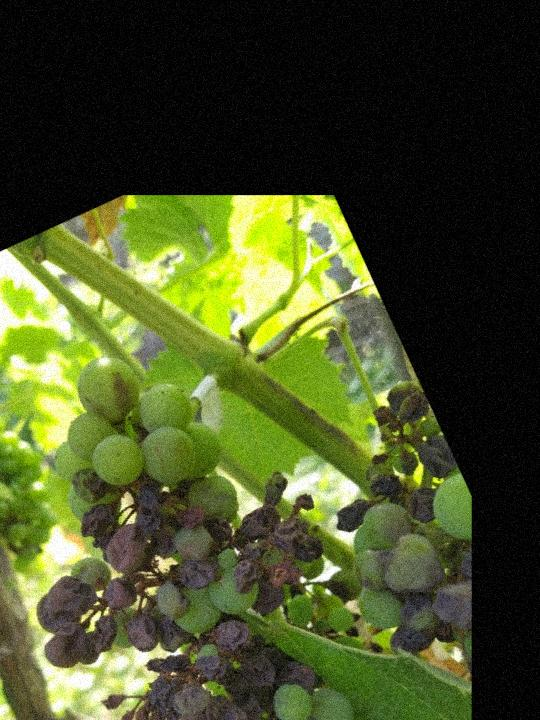grape: (0, 294, 464, 720), (0, 320, 75, 601)
